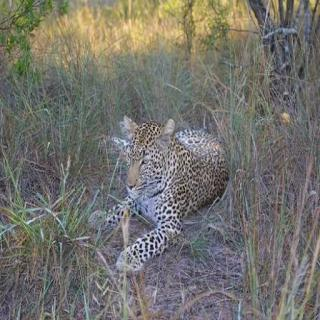Leopard: (95, 97, 258, 266)
